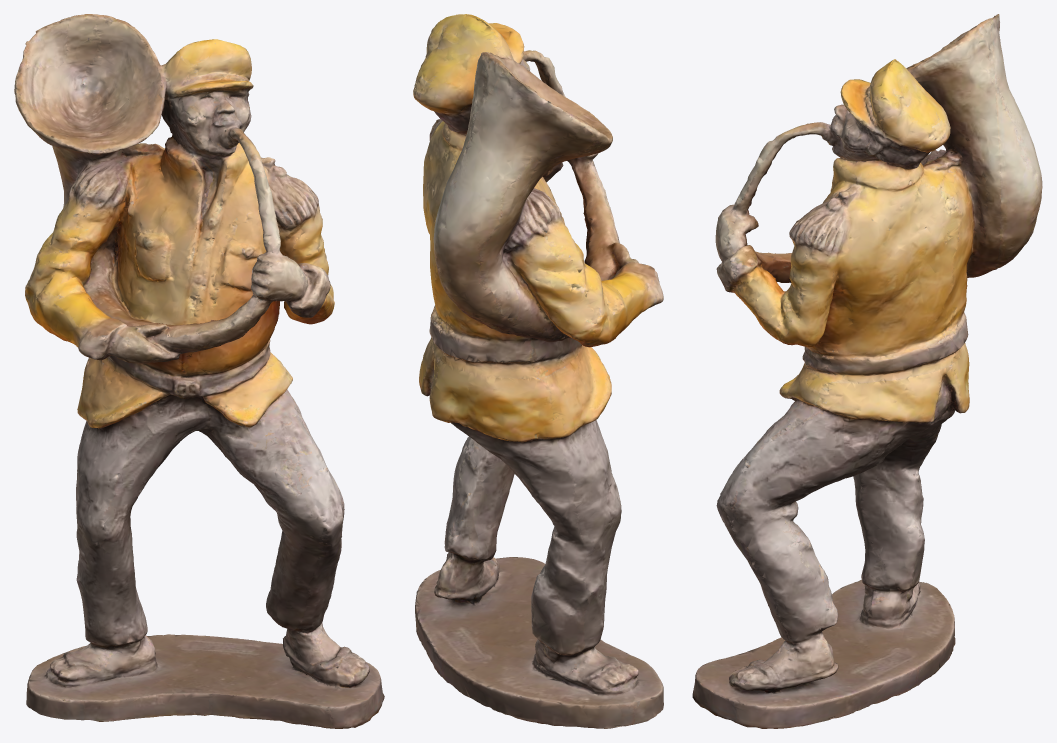
Rendered from khanna-patinder-rawat-trumpet-walae.glb.
3 renders of one model, left to right at view 1: azimuth 30°, elevation 25°; view 2: azimuth 150°, elevation 25°; view 3: azimuth 270°, elevation 25°, orthographic. The views are drawn at different scales.
Visible parts, largest first — view 1: Trumpet_Musician_Orange; view 2: Trumpet_Musician_Orange; view 3: Trumpet_Musician_Orange.
Part boxes in pixels (box(x1,y1,x2,y2)): Trumpet_Musician_Orange: box(14, 14, 384, 728); Trumpet_Musician_Orange: box(413, 14, 663, 728); Trumpet_Musician_Orange: box(692, 14, 1042, 728).
Size of the model in its own units: 0.2323 by 0.5 by 0.2543.
1 material, 1 textured.
